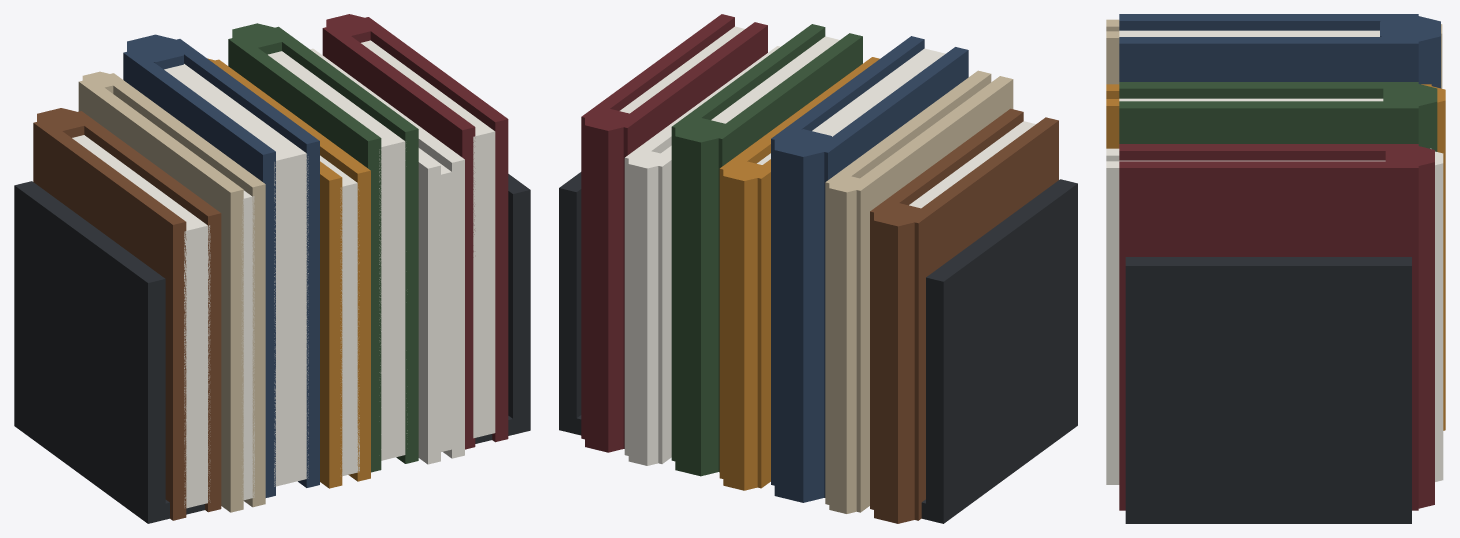
The model's file is SM_LPI_Decor_BookRow_03.fbx.
The picture shows the model from 3 angles, left to right: view 1: azimuth 30°, elevation 25°; view 2: azimuth 150°, elevation 25°; view 3: azimuth 270°, elevation 25°; orthographic projection. The views are drawn at different scales.
Parts seen in each view (by area): view 1: SM_LPI_Decor_BookRow_03; view 2: SM_LPI_Decor_BookRow_03; view 3: SM_LPI_Decor_BookRow_03.
Part boxes in pixels (x1,y1,x2,y2): SM_LPI_Decor_BookRow_03: [14, 14, 530, 523]; SM_LPI_Decor_BookRow_03: [559, 14, 1077, 523]; SM_LPI_Decor_BookRow_03: [1106, 14, 1445, 523].
Bounding box in the file's own units: 0.349 × 0.3 × 0.2505.
